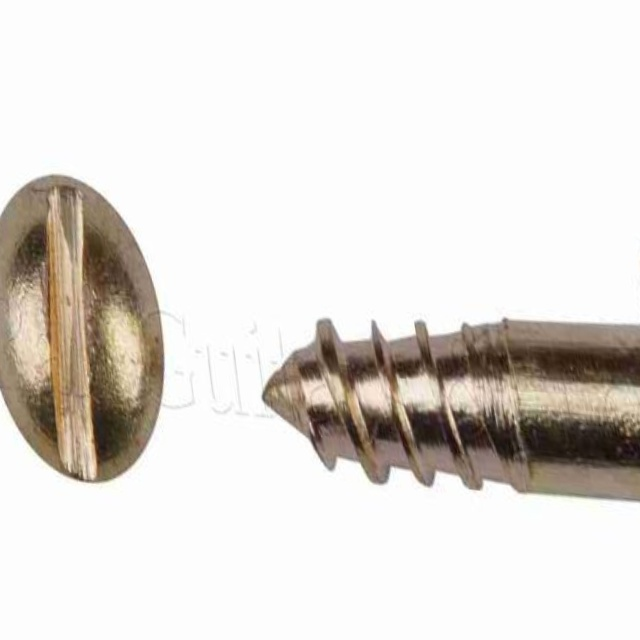duz: (0, 166, 182, 496)
